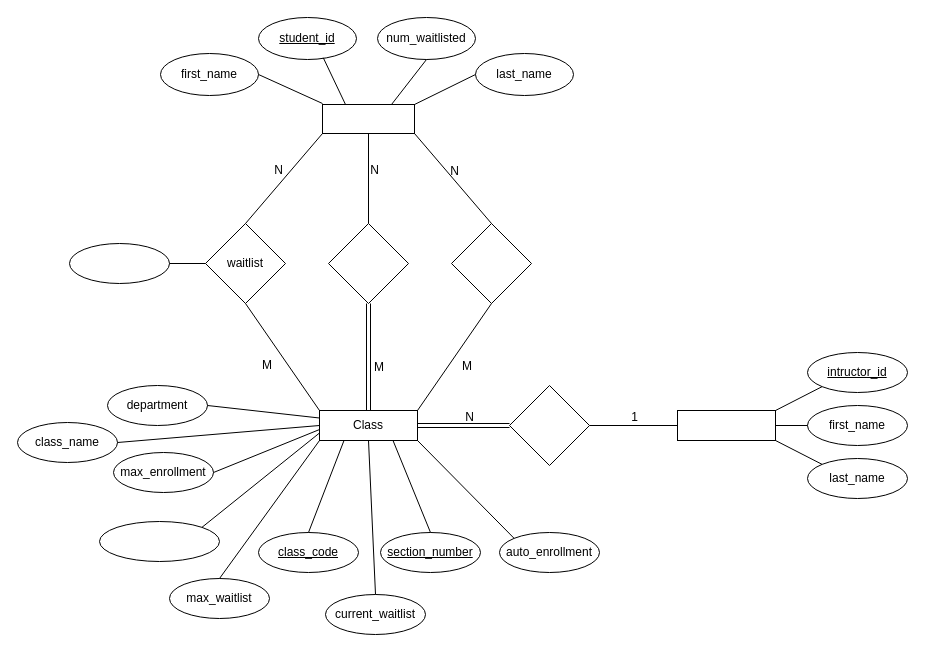
Some shapes in this 925 by 652 pixel diagram are drawn without their labels. The box of each missing label's shape, as (x1, y1, x2, y2) in pixels:
current_enrollment: (98, 520, 220, 562)
drop: (450, 222, 532, 304)
Enroll: (328, 222, 408, 304)
Instructor: (676, 410, 776, 440)
Student: (322, 104, 414, 134)
teach: (508, 384, 590, 466)
time_stamp: (68, 242, 170, 284)
